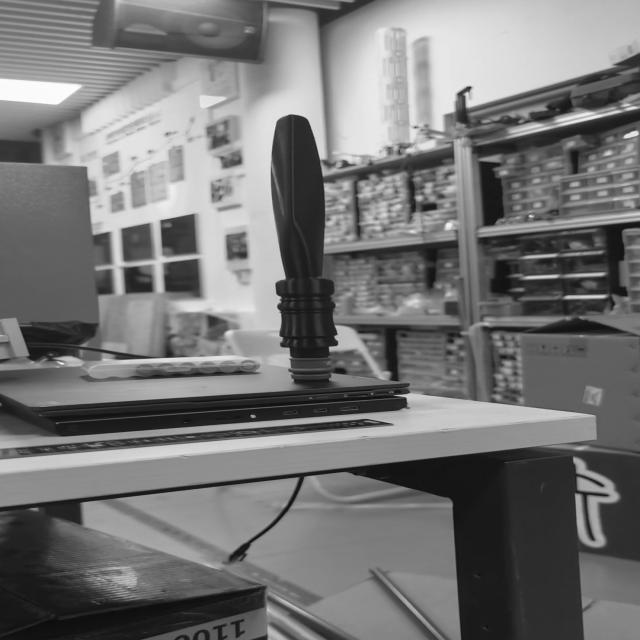base: (286, 356, 335, 382)
